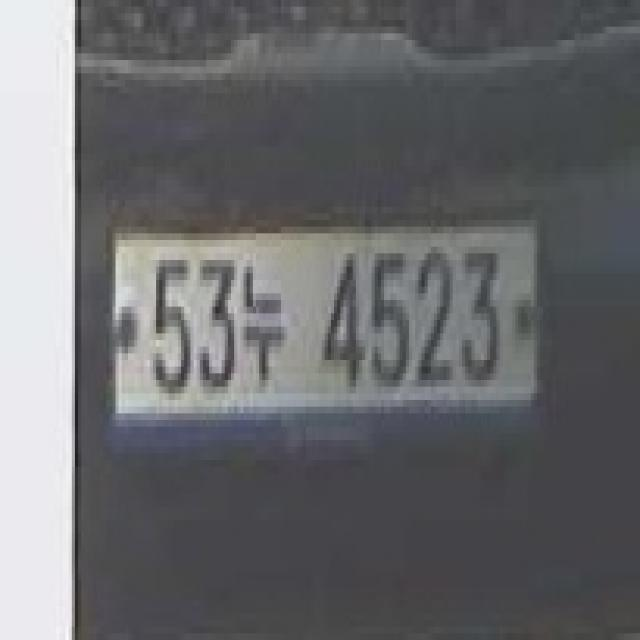2: (418, 238, 456, 400)
3: (458, 242, 502, 382), (198, 252, 239, 398)
4: (321, 252, 366, 401)
5: (147, 246, 195, 401), (370, 245, 412, 405)
license_plate: (105, 202, 552, 426)
nu: (240, 260, 284, 390)
